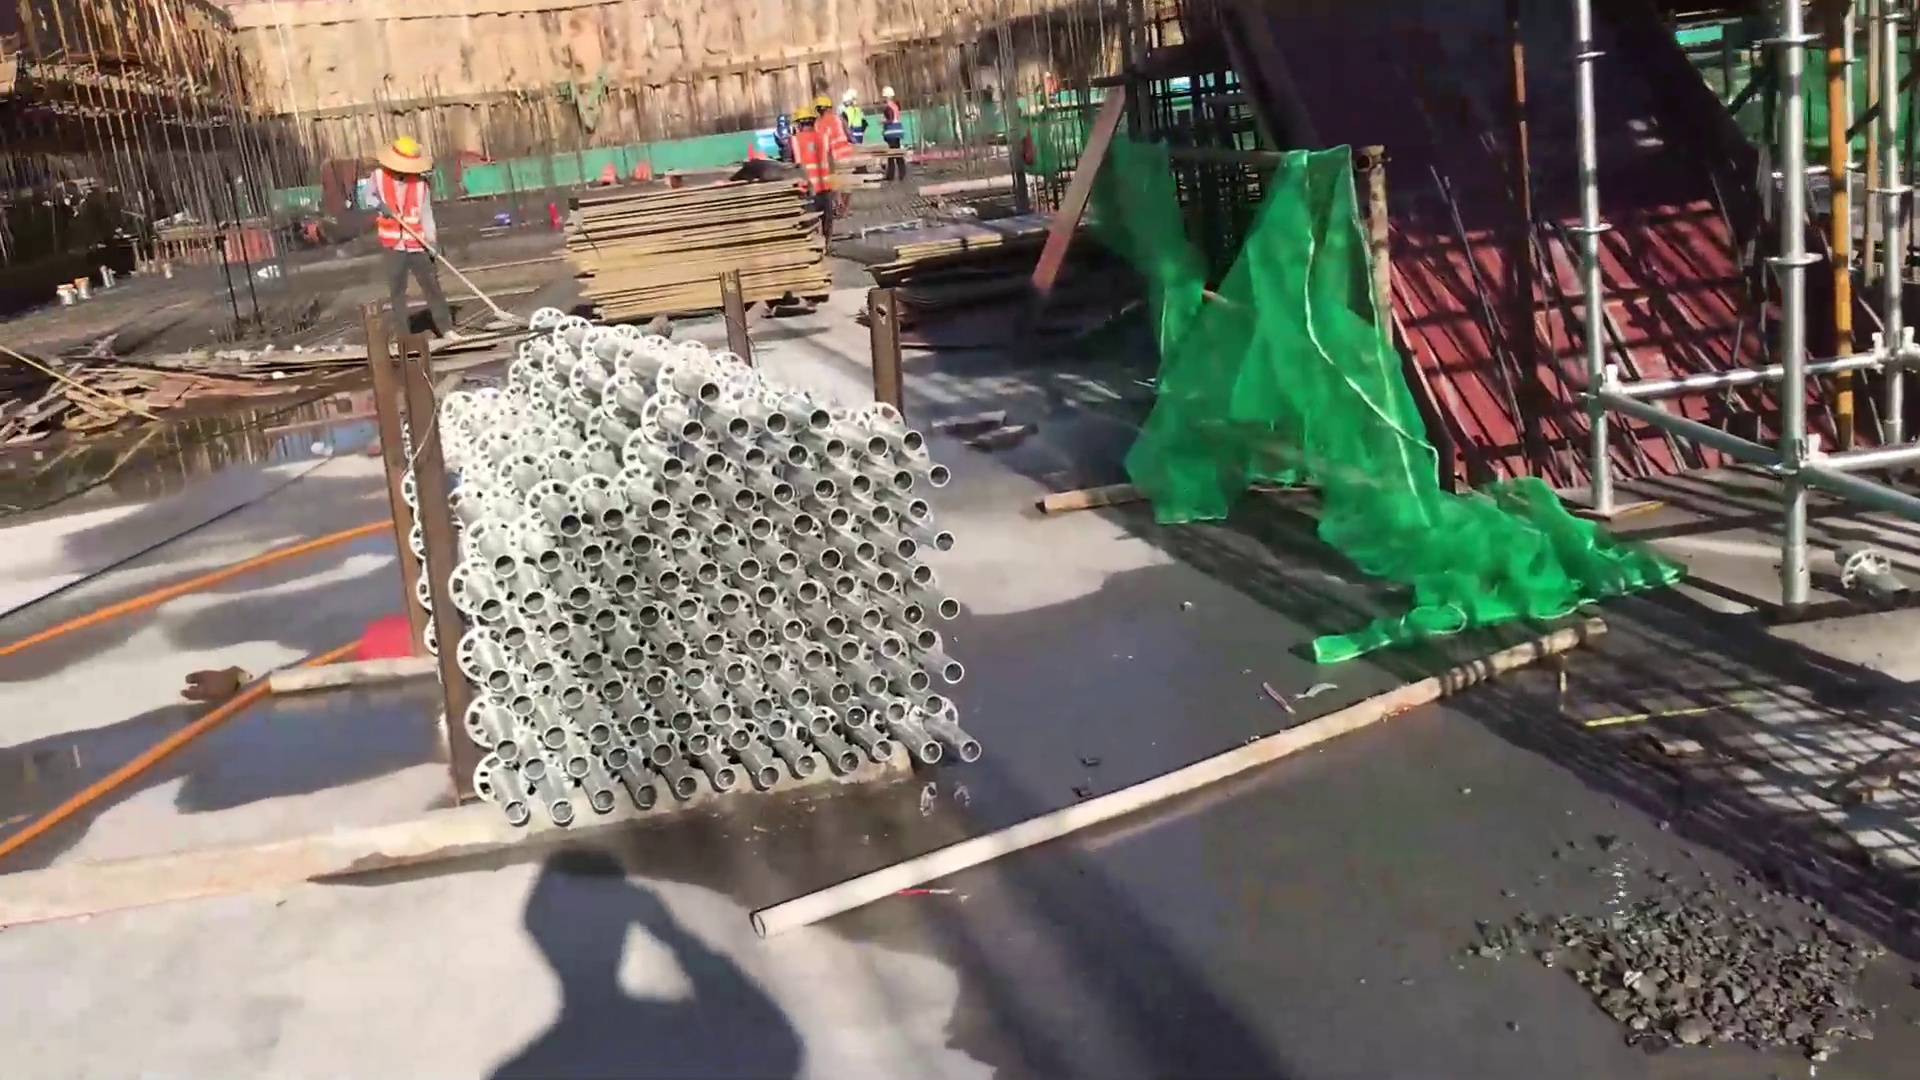helmet: (386, 133, 432, 168), (812, 91, 833, 111), (796, 108, 816, 127), (879, 86, 897, 100), (843, 89, 853, 108)
person: (363, 127, 455, 341), (790, 107, 834, 234), (871, 84, 910, 187), (815, 97, 854, 161)
vest: (364, 163, 452, 249), (795, 127, 836, 199), (873, 99, 909, 139)
